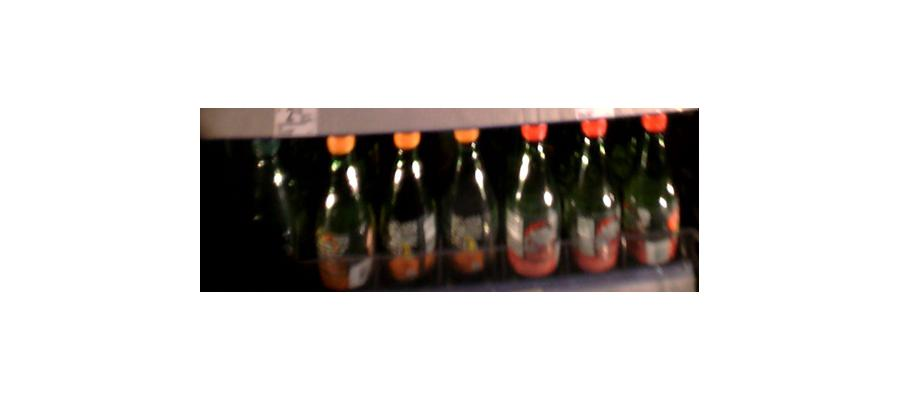bottle: (505, 120, 564, 278), (441, 123, 499, 282), (567, 118, 622, 279), (623, 116, 679, 274), (318, 135, 375, 287), (379, 131, 435, 285)
